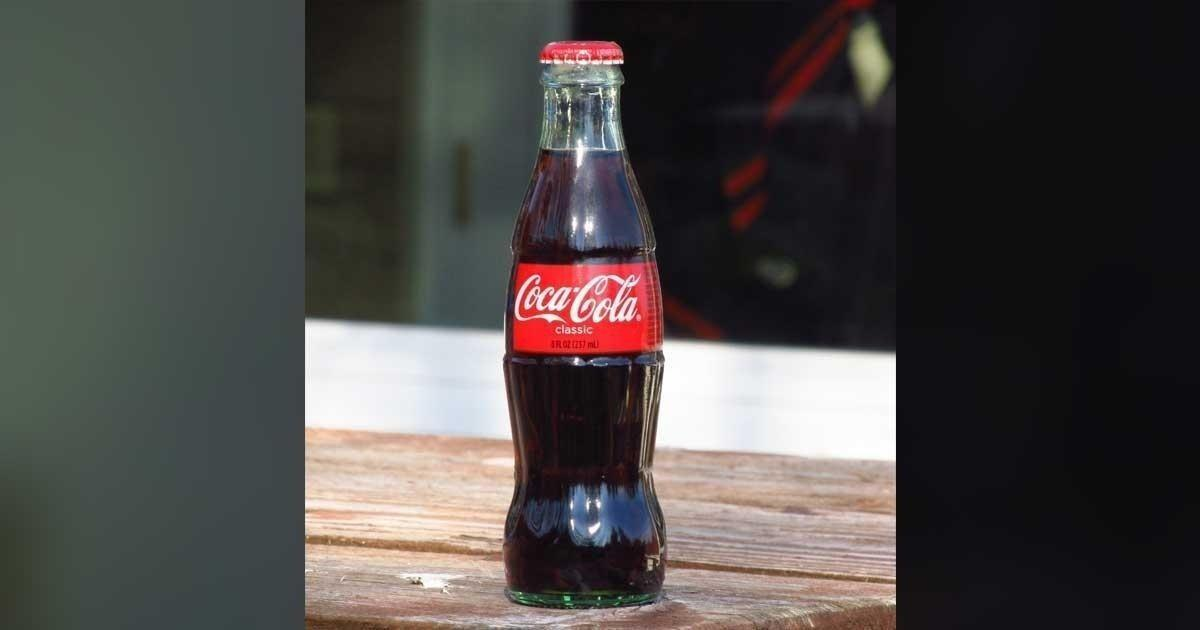bottle-glass: (496, 35, 673, 616)
